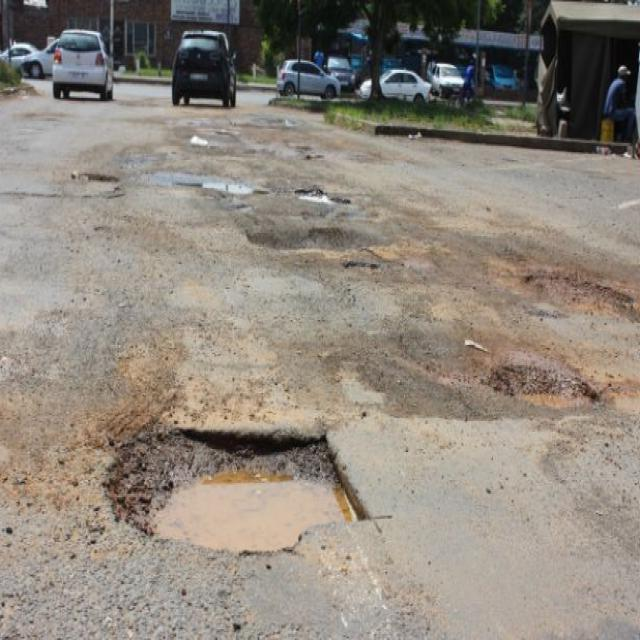Pothole: (103, 415, 374, 563)
